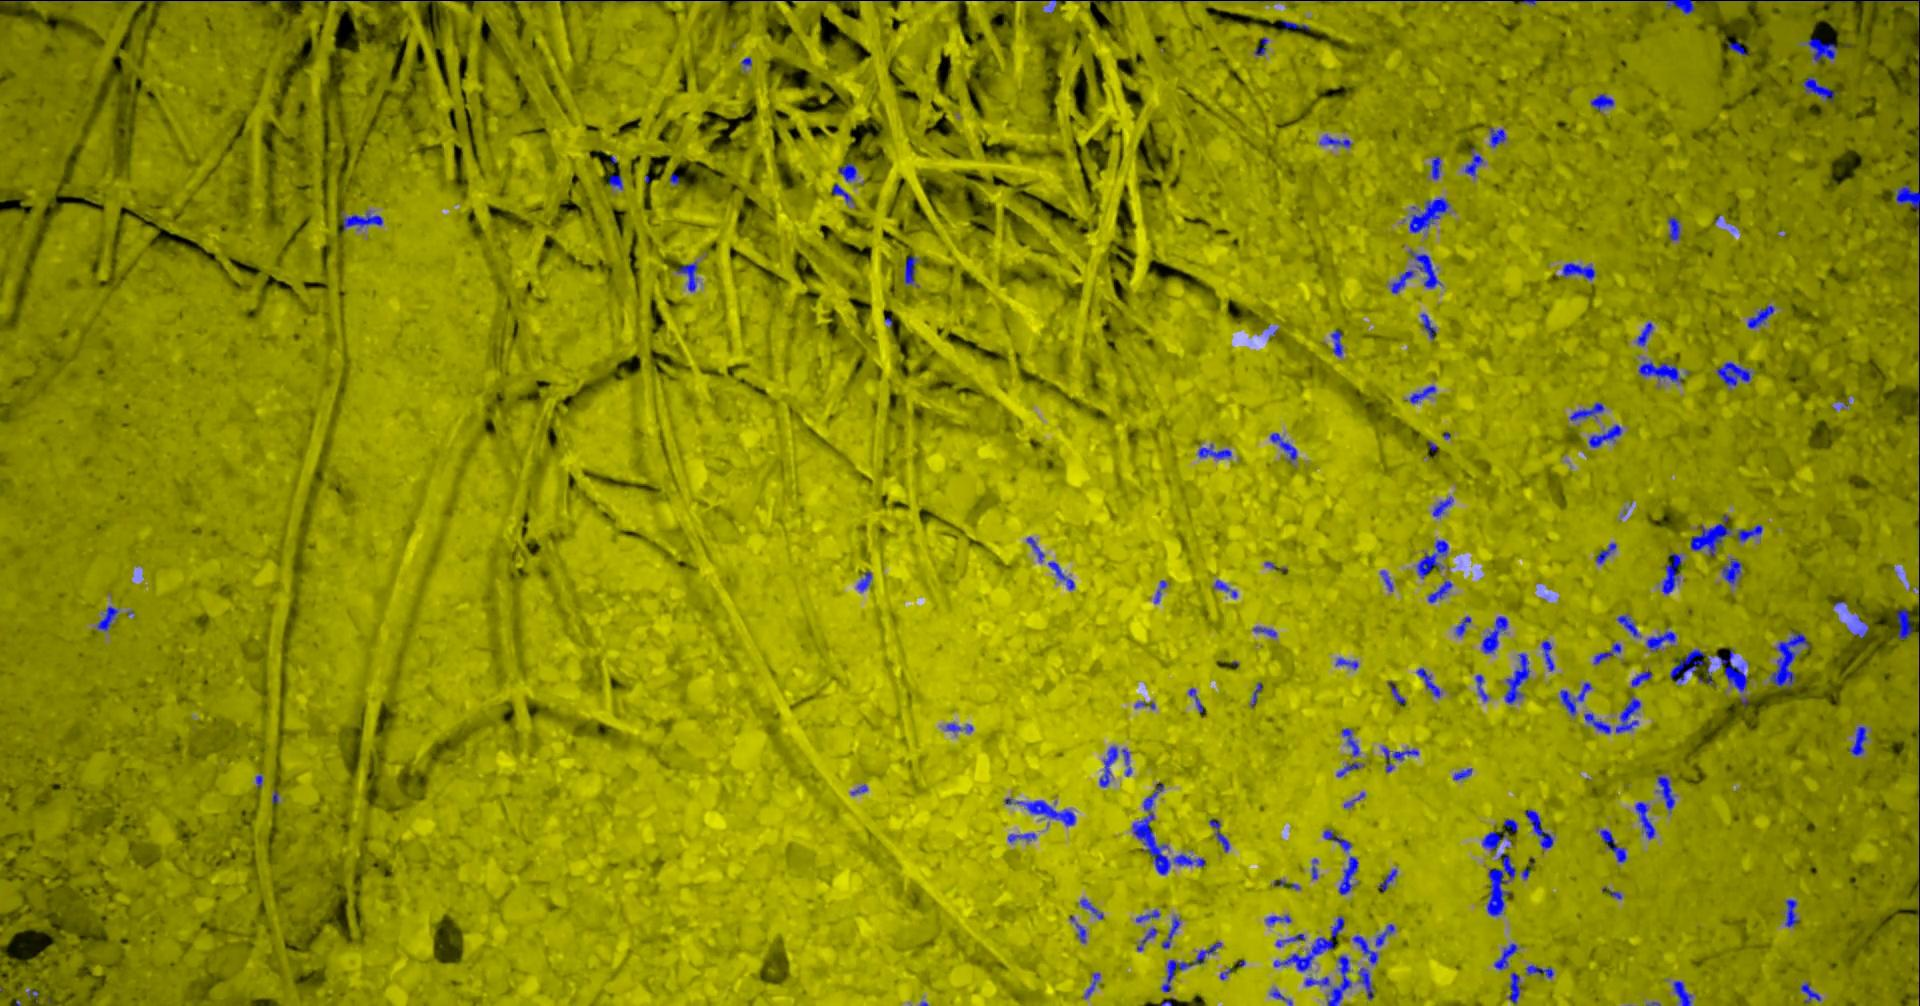ant: (1272, 915, 1343, 970), (1161, 941, 1222, 991), (1769, 631, 1810, 688), (1004, 796, 1076, 826), (1486, 852, 1515, 916), (1689, 513, 1731, 556), (1410, 197, 1449, 232), (1098, 746, 1131, 788), (1716, 648, 1747, 691), (1503, 653, 1530, 704), (1408, 250, 1441, 288), (1326, 955, 1351, 1005), (1416, 539, 1448, 578), (1669, 648, 1704, 682), (1524, 809, 1553, 848), (1559, 681, 1591, 715), (1638, 359, 1683, 382), (1481, 616, 1507, 653), (1382, 746, 1418, 772), (1801, 76, 1837, 102), (1615, 695, 1641, 732), (1599, 829, 1625, 862), (1716, 361, 1750, 386), (1269, 432, 1297, 462), (1661, 553, 1681, 594), (1807, 36, 1837, 62), (1634, 801, 1655, 840), (1589, 424, 1622, 447), (1048, 561, 1074, 589), (1416, 667, 1440, 697), (1338, 856, 1357, 894), (342, 211, 382, 229), (1655, 775, 1674, 810), (1895, 184, 1919, 212), (1352, 935, 1377, 963), (1209, 818, 1229, 851), (676, 260, 697, 291), (1493, 942, 1517, 969), (1666, 0, 1716, 13), (1570, 401, 1603, 420), (1644, 631, 1675, 652), (1747, 305, 1774, 328), (1592, 641, 1620, 663), (1322, 829, 1351, 850), (1390, 269, 1415, 293), (1721, 558, 1742, 584), (1562, 262, 1594, 279), (1161, 916, 1178, 948), (1617, 614, 1641, 636), (1583, 713, 1610, 733), (1464, 147, 1483, 175), (1895, 607, 1911, 639), (1357, 967, 1374, 998), (1427, 580, 1451, 602), (97, 606, 118, 630), (1481, 829, 1505, 851), (1079, 898, 1103, 920), (1849, 727, 1867, 754), (1341, 727, 1359, 754), (830, 183, 853, 203), (1197, 445, 1230, 459), (1137, 927, 1156, 951), (1672, 981, 1691, 1005), (1410, 385, 1435, 403), (1026, 536, 1044, 561), (1378, 868, 1397, 890), (1375, 923, 1394, 946), (1801, 982, 1820, 1005), (1634, 321, 1652, 345), (1069, 915, 1084, 942), (1737, 525, 1763, 541), (1595, 542, 1615, 563), (1590, 93, 1613, 111), (1213, 579, 1236, 597), (1387, 681, 1404, 704), (1083, 972, 1098, 998), (1335, 762, 1363, 776), (1784, 899, 1798, 927), (1525, 964, 1553, 978), (1319, 135, 1350, 147), (1420, 312, 1435, 338), (1432, 495, 1451, 516), (1542, 640, 1554, 671), (1269, 988, 1291, 1005), (904, 255, 917, 285), (1275, 934, 1304, 946), (1189, 687, 1203, 713), (1330, 329, 1342, 356), (1509, 972, 1519, 1005), (1727, 41, 1750, 55), (838, 163, 856, 180), (1490, 127, 1505, 147), (856, 570, 871, 591), (1455, 616, 1470, 636), (1630, 671, 1651, 686), (1135, 909, 1159, 922), (1476, 674, 1487, 701), (1280, 19, 1309, 29), (1335, 657, 1357, 669), (1250, 682, 1261, 708), (1007, 832, 1035, 842), (1667, 216, 1679, 240), (1303, 976, 1330, 986), (1154, 579, 1166, 602), (945, 723, 971, 732), (1265, 915, 1291, 923), (607, 174, 622, 189), (1380, 570, 1392, 591), (1253, 626, 1276, 636), (1255, 37, 1267, 55), (1453, 767, 1470, 780), (1862, 0, 1919, 4), (1431, 155, 1440, 179), (1503, 818, 1517, 831)
